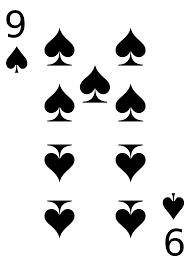nine of spades: (3, 3, 185, 260)
